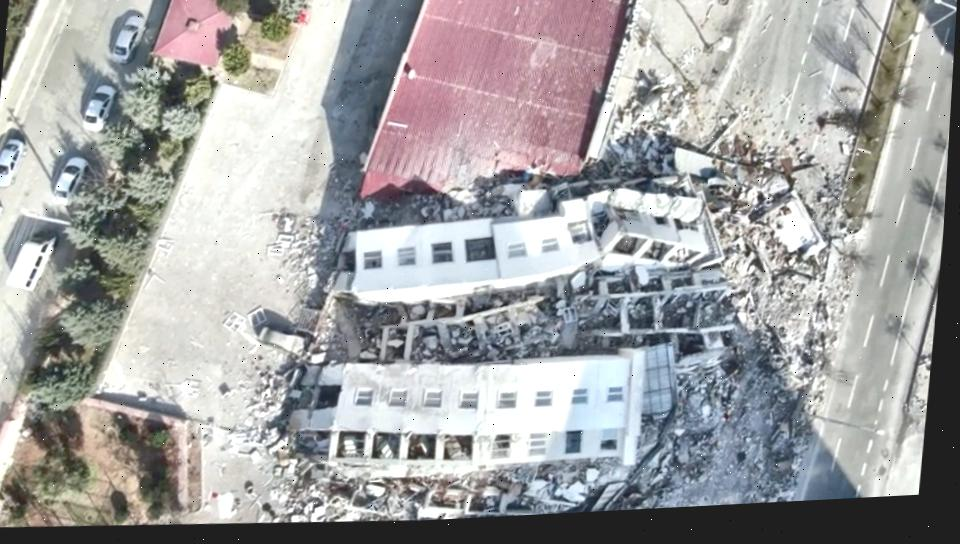kapali: (578, 0, 888, 512)
